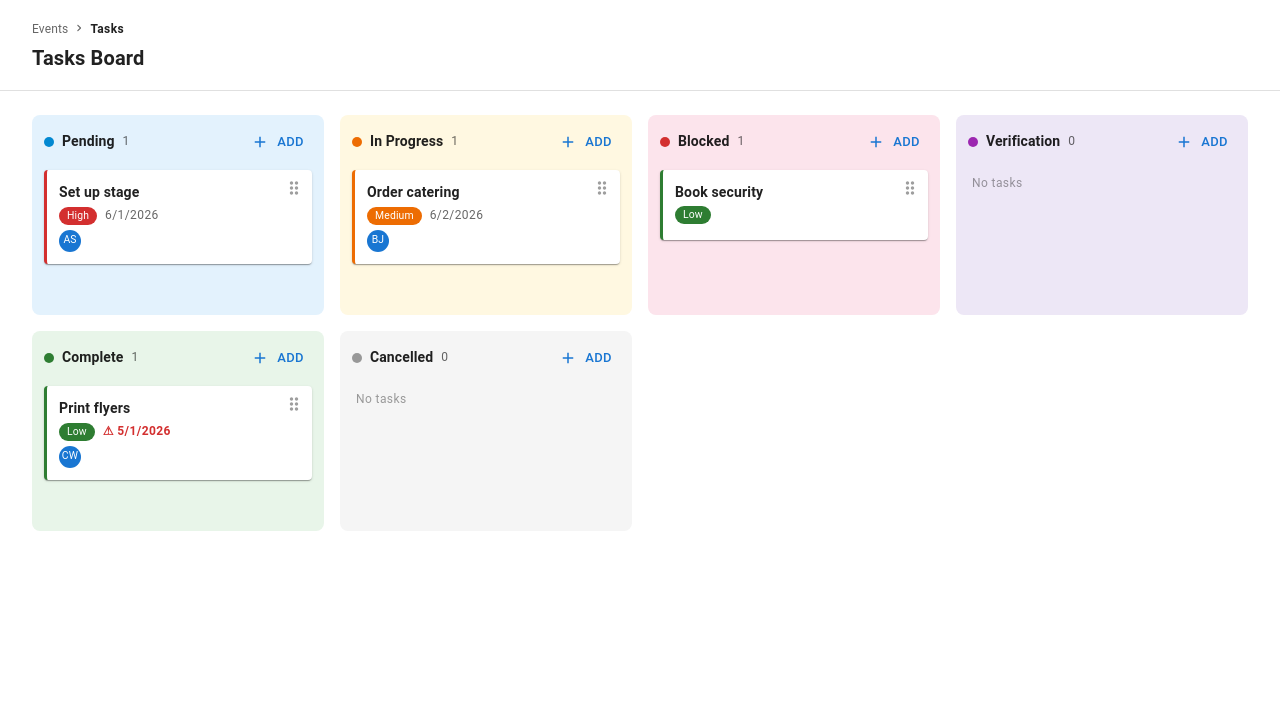
Test: TasksKanbanPage › offers Urgent in the priority picker
Step 1. Click the button "Add" in the row of "Pending" → (279, 142), box [245,127,312,158]
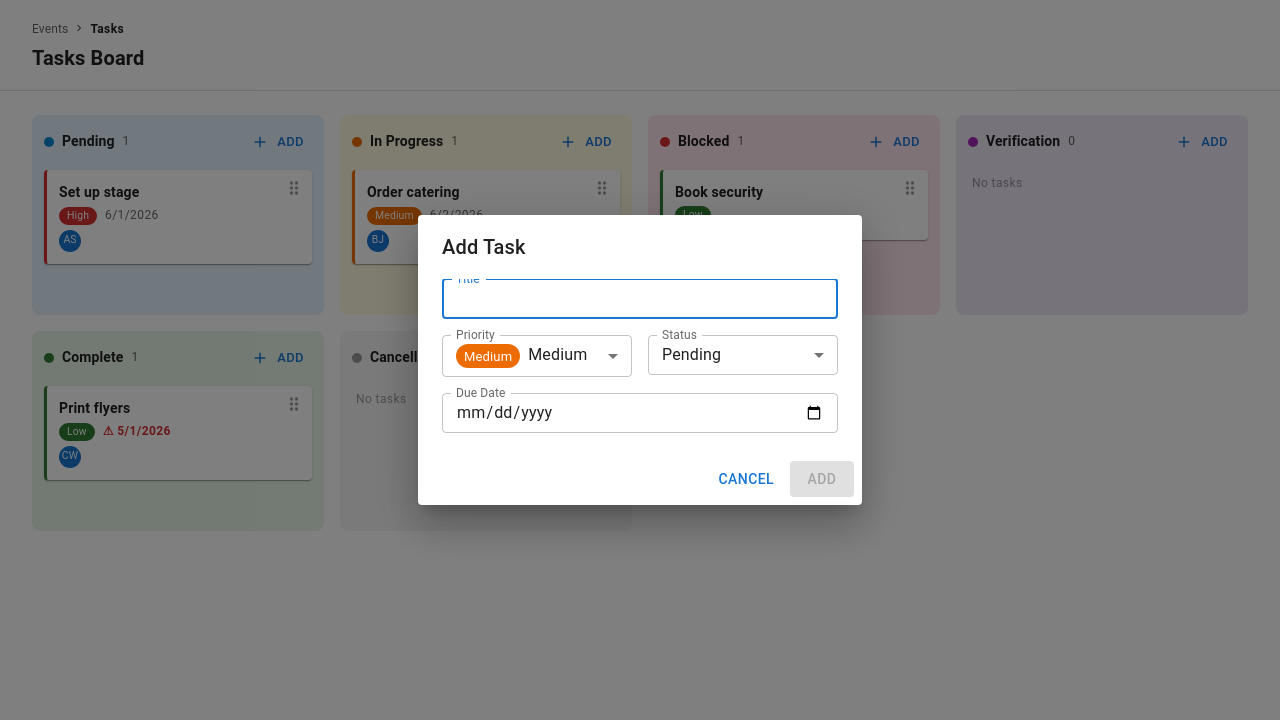
Step 2. Click the dropdown labelled "Medium Medium" → (522, 356), box [456,344,587,368]
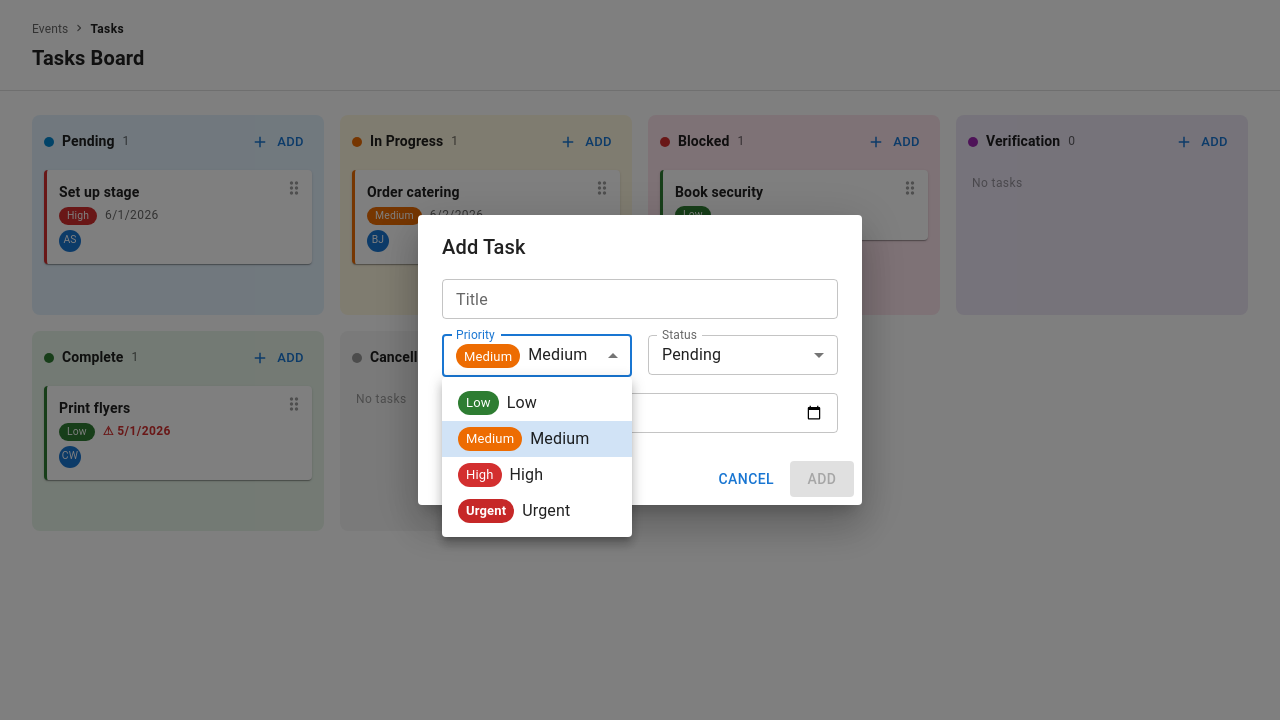
Now the option "Urgent Urgent" is shown, box [458,499,570,523]
